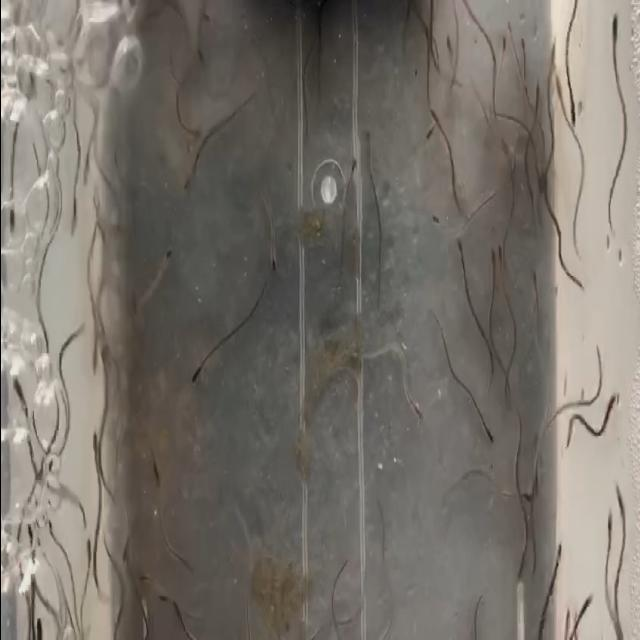active_glass_eel: (600, 7, 626, 72), (605, 386, 625, 446), (526, 267, 544, 319), (0, 190, 20, 236), (144, 436, 162, 484), (407, 386, 427, 428), (86, 427, 102, 479), (7, 370, 26, 413), (548, 536, 566, 578), (527, 455, 542, 502), (22, 500, 36, 548), (493, 132, 511, 168), (507, 550, 524, 588), (116, 514, 130, 560), (158, 228, 174, 267), (534, 172, 550, 210), (137, 558, 151, 601), (428, 211, 448, 239), (576, 586, 592, 620), (182, 362, 198, 396), (478, 414, 496, 444), (604, 498, 616, 542), (82, 526, 94, 570), (44, 489, 56, 533), (416, 118, 436, 144), (179, 168, 199, 194), (188, 115, 204, 147), (617, 478, 627, 529), (450, 230, 468, 258), (86, 350, 97, 394), (519, 480, 535, 510), (96, 346, 112, 376), (153, 586, 168, 616), (546, 42, 560, 72), (346, 153, 360, 181), (67, 204, 79, 236), (551, 73, 563, 104), (84, 142, 92, 188), (497, 227, 504, 279), (34, 604, 44, 640), (486, 240, 496, 274), (267, 245, 278, 275), (28, 563, 38, 595), (515, 33, 527, 59), (362, 122, 370, 161), (426, 104, 440, 126), (493, 31, 508, 51), (504, 17, 514, 47), (566, 112, 580, 132), (444, 30, 456, 52)
